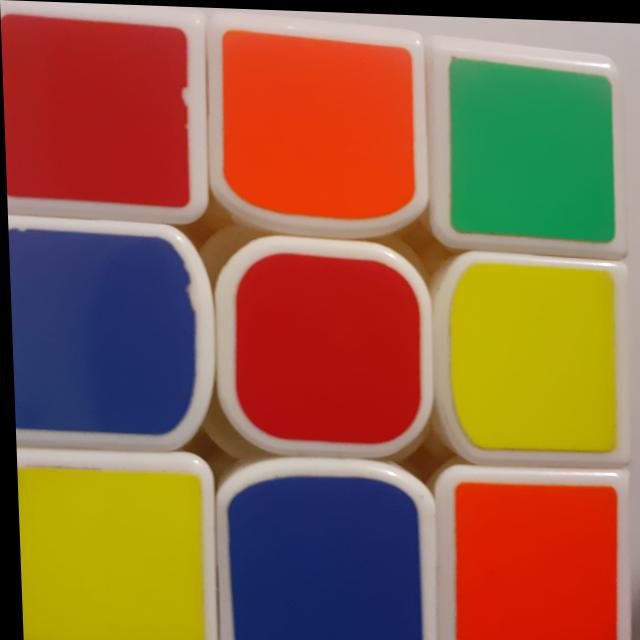Blue: (9, 229, 214, 443), (214, 454, 432, 640)
Green: (437, 56, 616, 240)
Orange: (221, 33, 422, 219), (439, 464, 621, 640)
Red: (219, 244, 423, 450), (0, 16, 206, 218)
Yellow: (433, 248, 622, 462), (13, 452, 209, 640)
